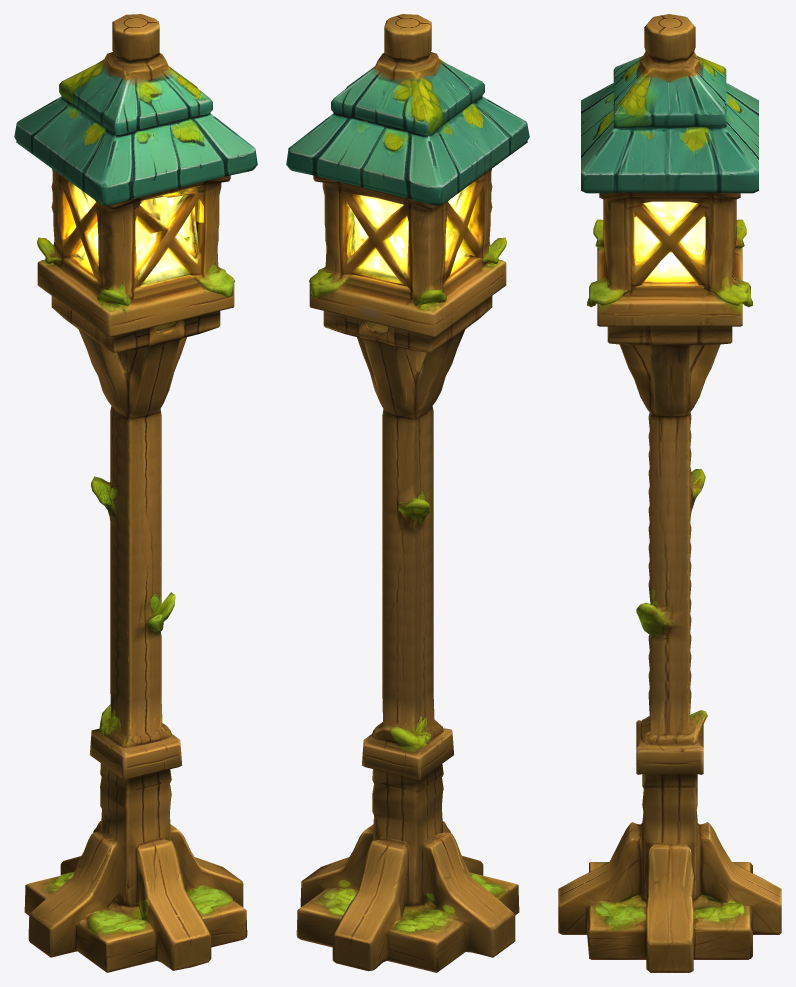
The model's file is Meshy_AI_Woodland_Lantern_0701134350_texture.fbx.
3 renders of one model, left to right at view 1: azimuth 30°, elevation 25°; view 2: azimuth 150°, elevation 25°; view 3: azimuth 270°, elevation 25°, orthographic.
Parts seen in each view (by area): view 1: Mesh_0; view 2: Mesh_0; view 3: Mesh_0.
Part boxes in pixels (x1,y1,x2,y2): Mesh_0: (14,14,257,972); Mesh_0: (286,14,529,972); Mesh_0: (558,14,781,972).
Size of the model in its own units: 42.66 by 191 by 42.66.
Materials: 1 (1 with a texture image).
